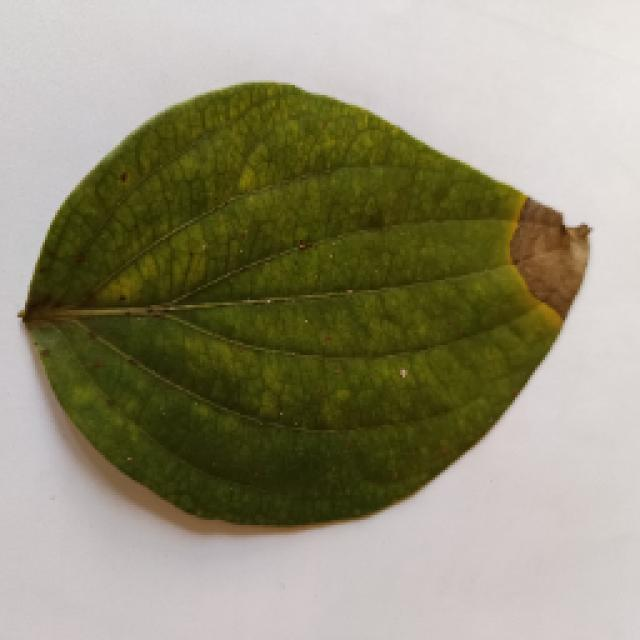footrot: (5, 85, 597, 543)
